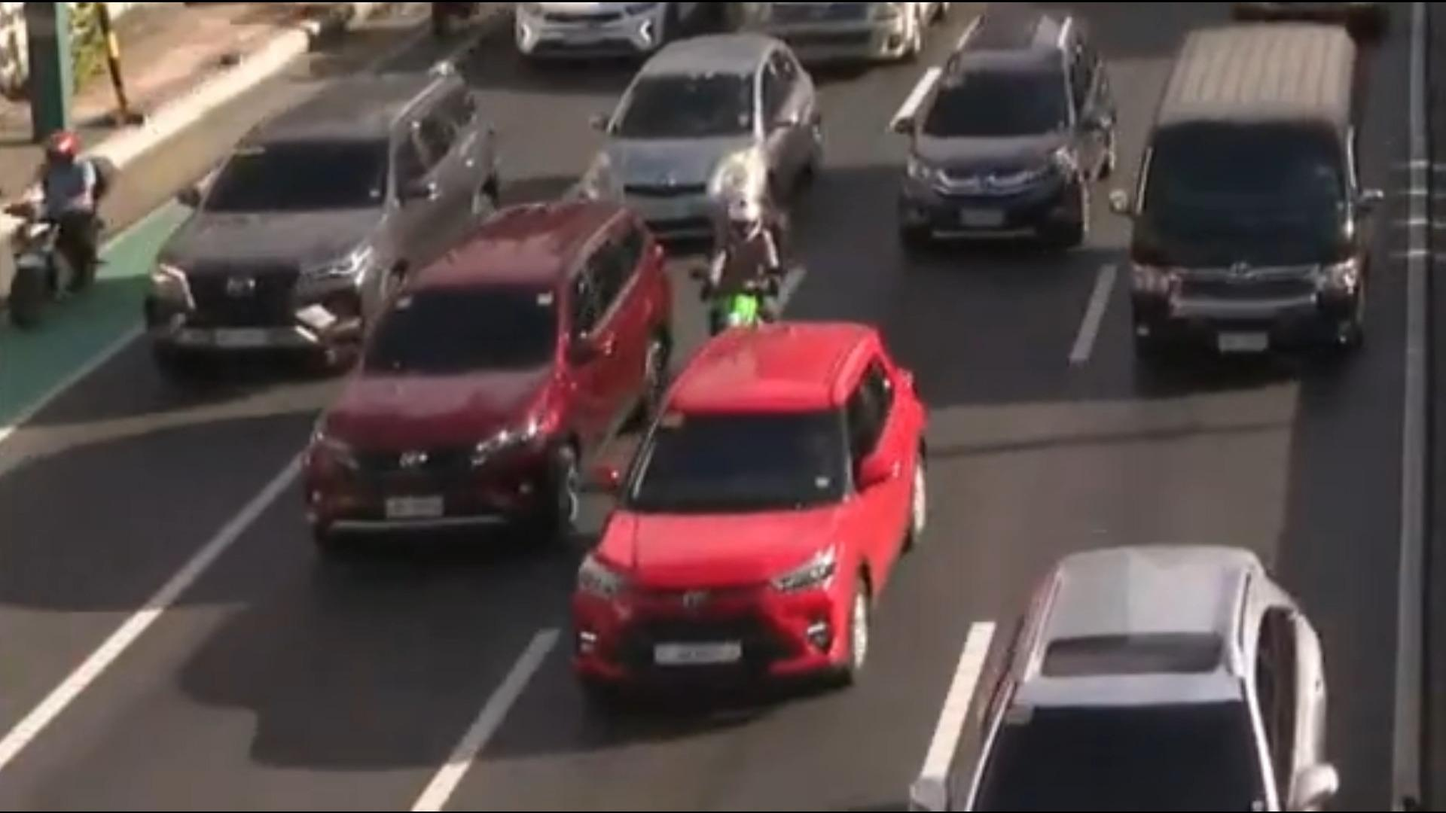Motorcycle: (0, 102, 155, 340), (685, 185, 810, 395)
SUV: (542, 322, 1006, 726), (116, 46, 543, 396), (950, 503, 1420, 813), (301, 198, 676, 580), (882, 2, 1126, 289)
Sedan: (542, 25, 868, 238)
Van: (1123, 19, 1414, 428)
